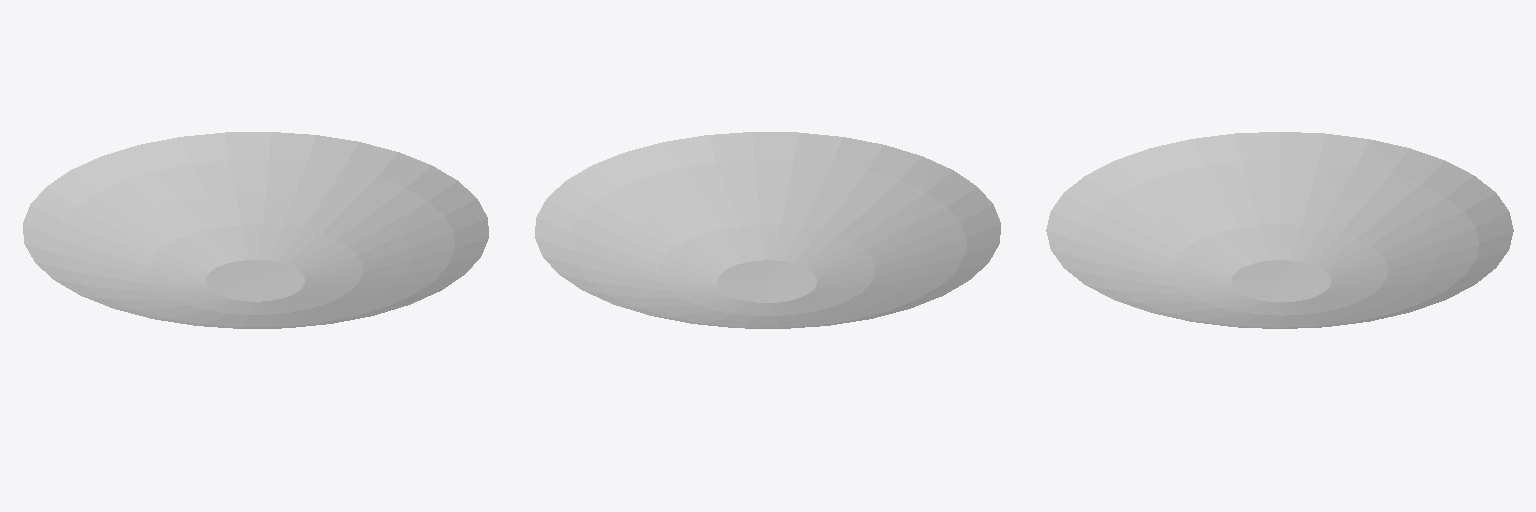
Rendered from dbzDiskEdited.obj.
The picture shows the model from 3 angles: view 1: azimuth 30°, elevation 25°; view 2: azimuth 150°, elevation 25°; view 3: azimuth 270°, elevation 25°; orthographic projection.
Parts seen in each view (by area): view 1: Circle; view 2: Circle; view 3: Circle.
Boxes of the visible parts, x1=… form: Circle: x1=23, y1=132, x2=488, y2=328; Circle: x1=535, y1=132, x2=1000, y2=328; Circle: x1=1046, y1=132, x2=1513, y2=328.
Size of the model in its own units: 2 by 0.2413 by 2.